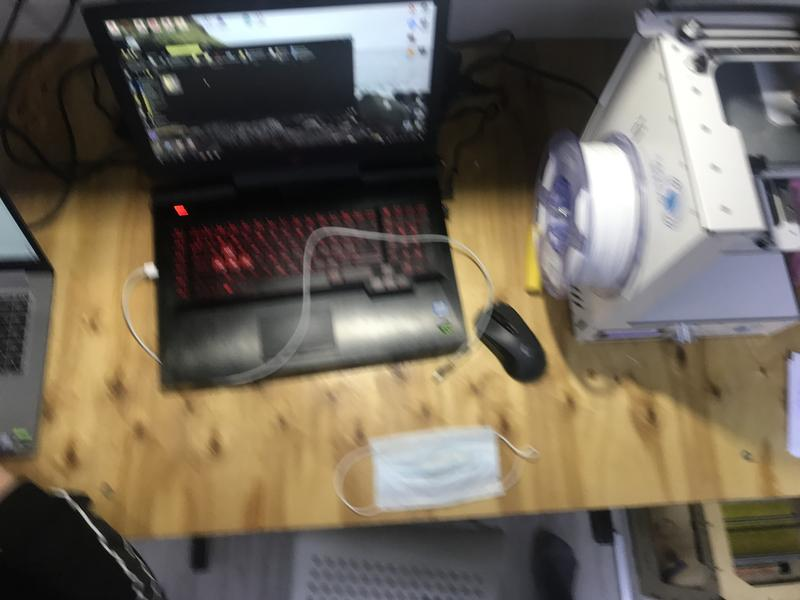medical_mask: (335, 426, 539, 514)
